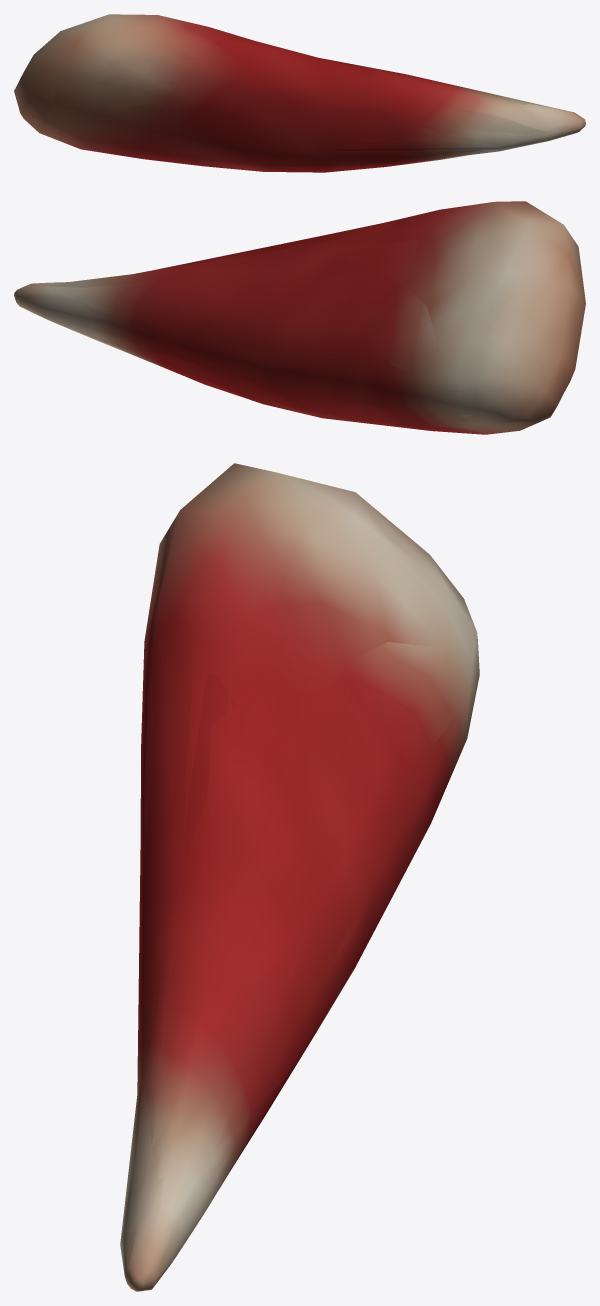
Rendered from L Gluteus profundus.fbx.
3 renders of one model, top to bottom at view 1: azimuth 30°, elevation 25°; view 2: azimuth 150°, elevation 25°; view 3: azimuth 270°, elevation 25°, orthographic. The views are drawn at different scales.
Parts seen in each view (by area): view 1: L Gluteus profundus, L Gluteus profundus low, L Gluteus profundus high; view 2: L Gluteus profundus, L Gluteus profundus low, L Gluteus profundus high; view 3: L Gluteus profundus, L Gluteus profundus low, L Gluteus profundus high.
Part boxes in pixels (left/top/right/bottom): L Gluteus profundus: left=14, top=14, right=585, bottom=172; L Gluteus profundus low: left=14, top=14, right=574, bottom=172; L Gluteus profundus high: left=20, top=23, right=570, bottom=168; L Gluteus profundus: left=14, top=201, right=585, bottom=434; L Gluteus profundus low: left=25, top=201, right=585, bottom=433; L Gluteus profundus high: left=16, top=212, right=560, bottom=429; L Gluteus profundus: left=120, top=463, right=479, bottom=1291; L Gluteus profundus low: left=120, top=473, right=475, bottom=1291; L Gluteus profundus high: left=123, top=488, right=473, bottom=1289.
Bounding box in the file's own units: 1.29 × 0.4986 × 0.3984.
1 material, 1 textured.
